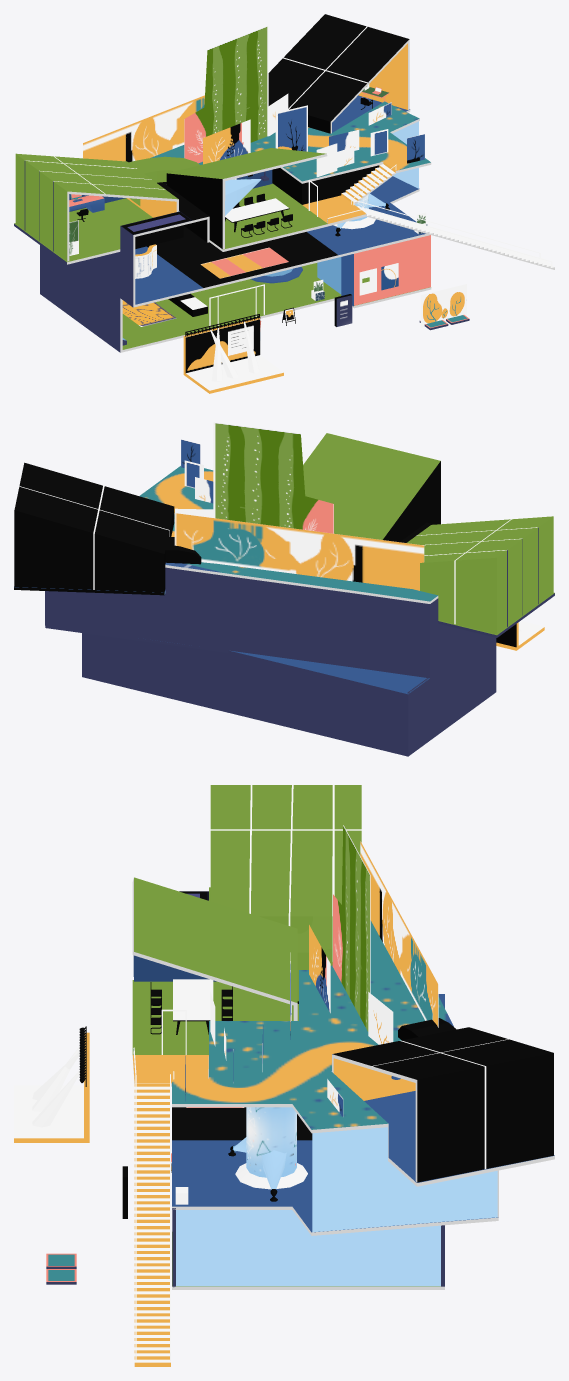
File: 设计中心.fbx
The picture shows the model from 3 angles, top to bottom: view 1: azimuth 30°, elevation 25°; view 2: azimuth 150°, elevation 25°; view 3: azimuth 270°, elevation 25°; orthographic projection. The views are drawn at different scales.
Parts seen in each view (by area): view 1: building, tree_10_1, stage, tree_10, stairs4, tree_4_2, Plane_5, Plane_3, tree_4, stairs3, table_13, Plane_4 (+12 smaller); view 2: building, tree_10, tree_10_1, stage, tree_5, tree_6, tree_3; view 3: building, glass_2, glass, stairs4, tree_10_1, tree_10, stage, pillar, table_13, tree_4_2, tree_4_1, plant (+3 smaller).
Part boxes in pixels (x1,y1,x2,y2): building: (14,14,431,352); tree_10_1: (184,25,268,163); stage: (183,314,283,393); tree_10: (83,95,204,162); stairs4: (357,206,554,269); tree_4_2: (203,119,250,164); Plane_5: (420,284,466,327); Plane_3: (200,247,288,278); tree_4: (275,105,307,151); stairs3: (341,160,399,204); table_13: (225,198,289,232); Plane_4: (122,300,176,326); building: (14,433,554,756); tree_10: (174,513,424,590); tree_10_1: (213,422,333,533); stage: (496,621,544,650); tree_5: (181,439,200,467); tree_6: (195,477,213,503); tree_3: (184,460,203,488); building: (132,785,554,1289); glass_2: (176,1210,440,1286); glass: (312,1127,497,1232); stairs4: (134,1083,170,1366); tree_10_1: (332,825,370,1031); tree_10: (360,841,438,1027); stage: (14,1026,89,1142); pillar: (235,1107,307,1189); table_13: (173,979,213,1034); tree_4_2: (309,925,330,1013); tree_4_1: (368,992,393,1044); plant: (46,1253,76,1284).
Size of the model in its own units: 3104 by 1531 by 2149.
